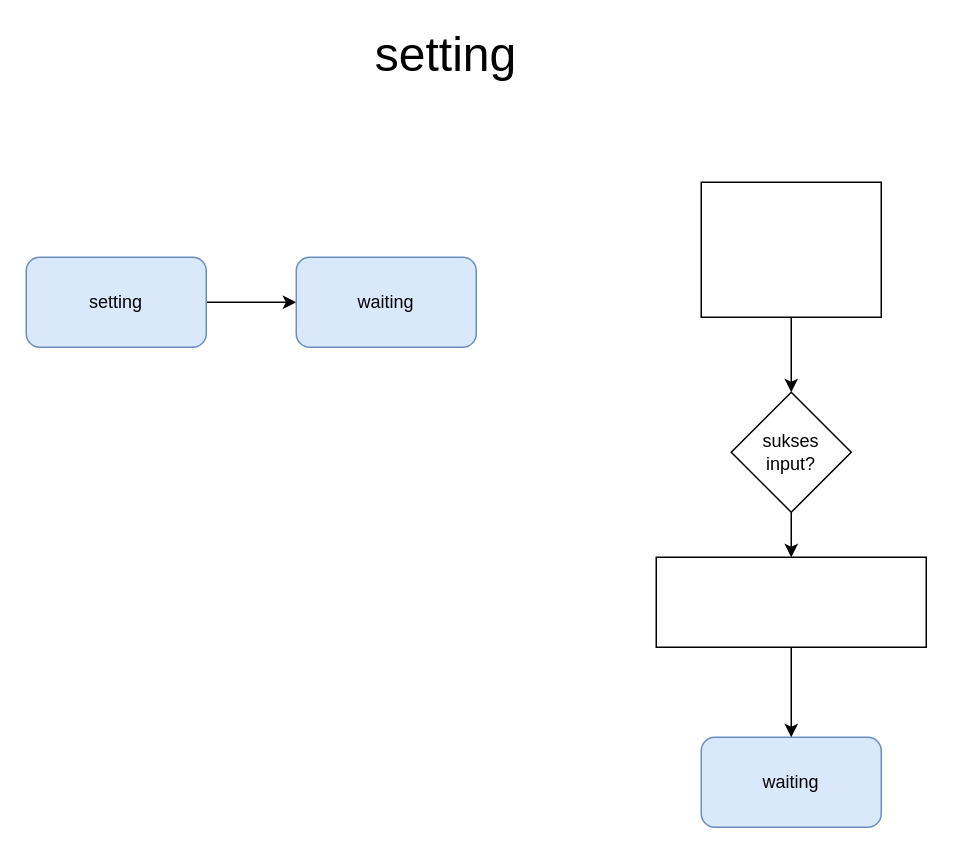
Some shapes in this 953 by 854 pixel diagram are drawn without their labels. Here are the shapes that lost their labels. From the top down, the centre of each, then its label:
pixel 790 249: input email domain imei / uuid *device-info
pixel 790 601: Config.registrationStatus=0
